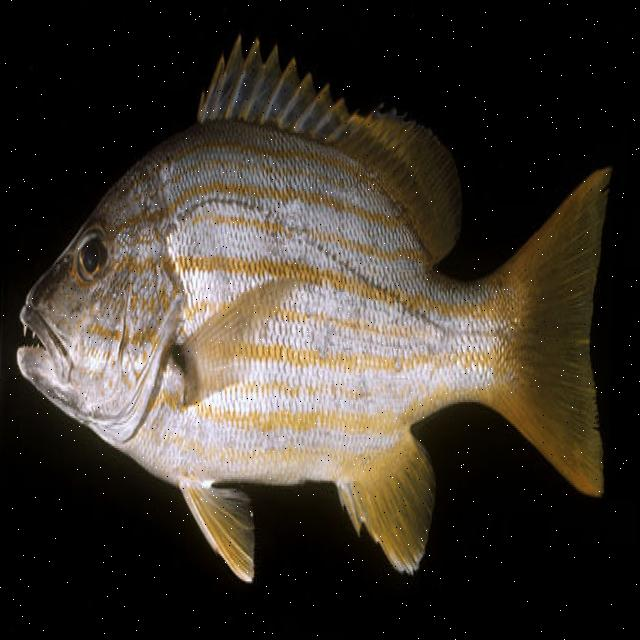ikan: (11, 26, 616, 590)
